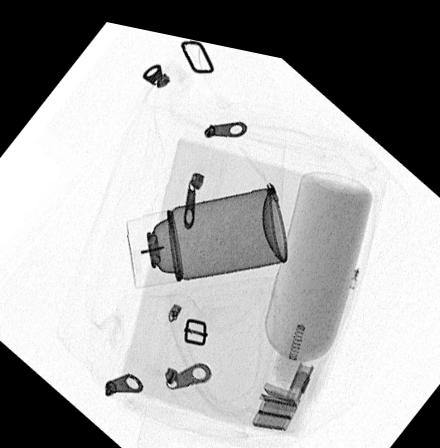Sprayer: (123, 172, 288, 285)
